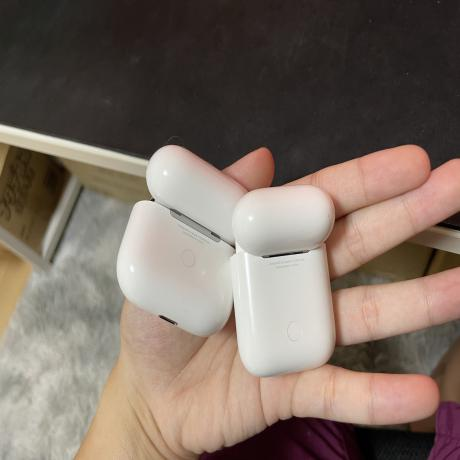airpod2: (224, 180, 347, 375)
airpod3: (109, 125, 257, 340)
